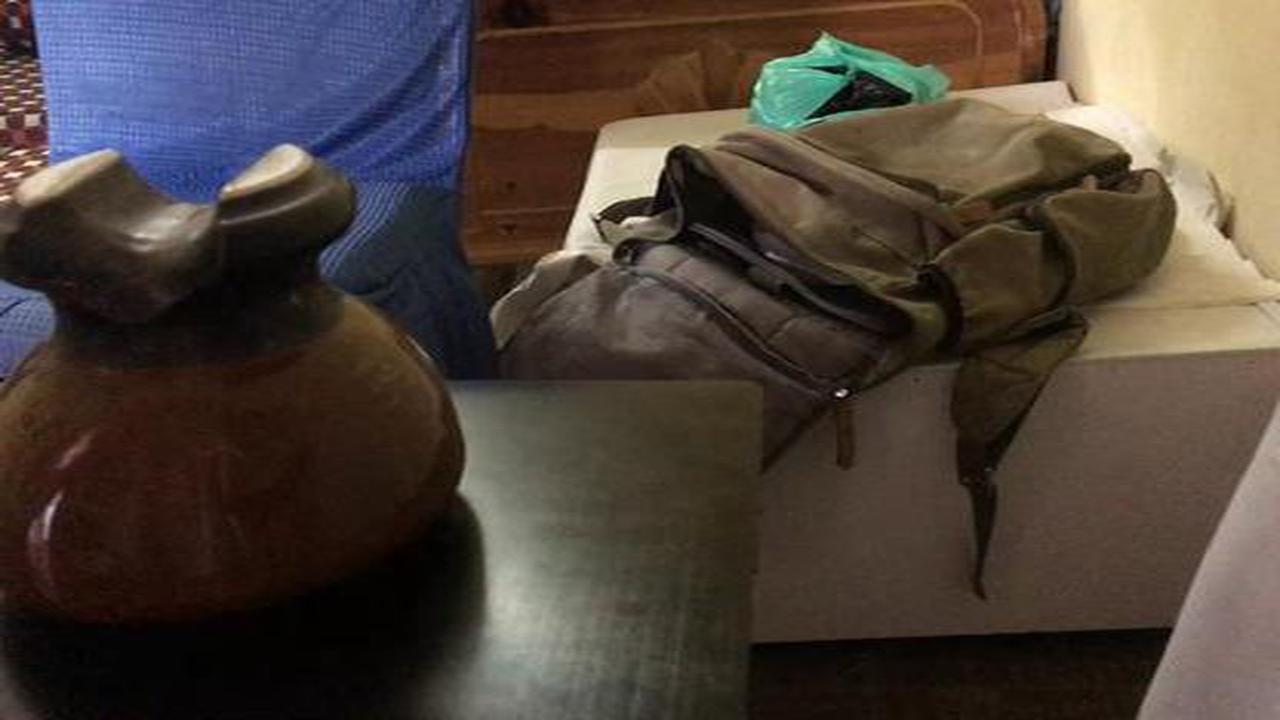insulator_pin: (4, 129, 477, 656)
